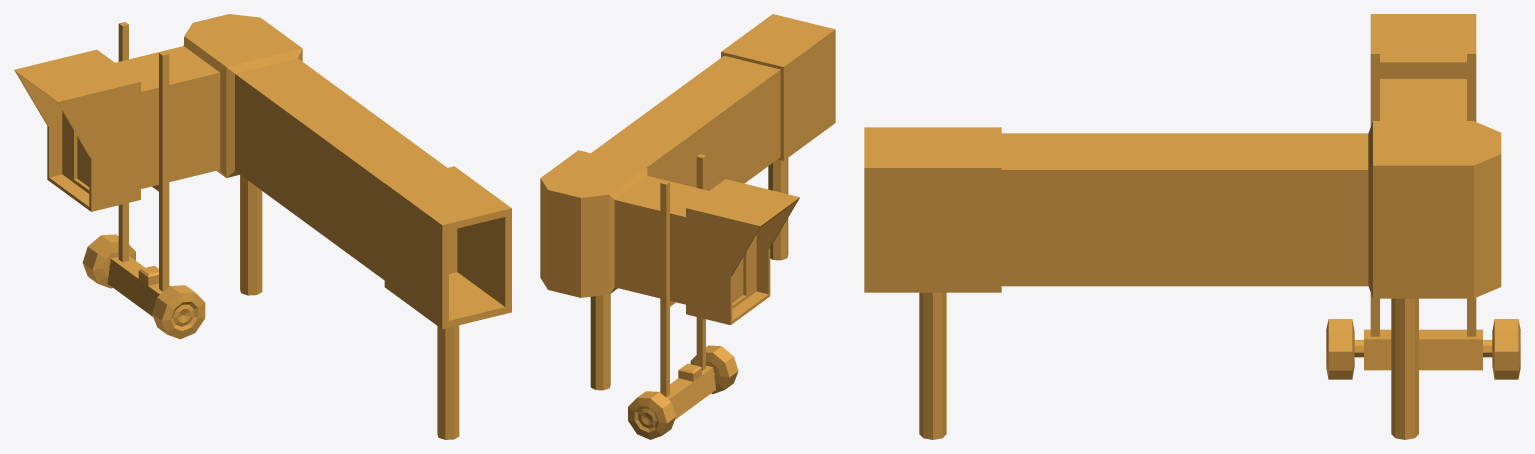
Rendered from airport-jet-bridge.glb.
The picture shows the model from 3 angles, left to right: view 1: azimuth 30°, elevation 25°; view 2: azimuth 150°, elevation 25°; view 3: azimuth 270°, elevation 25°; orthographic projection. The views are drawn at different scales.
Parts seen in each view (by area): view 1: airport-jet-bridge; view 2: airport-jet-bridge; view 3: airport-jet-bridge.
Boxes of the visible parts, x1,y1,x2,y2 form: airport-jet-bridge: [14, 14, 511, 439]; airport-jet-bridge: [540, 14, 835, 439]; airport-jet-bridge: [864, 14, 1520, 439].
Bounding box in the file's own units: 7.4 × 7.8 × 14.32.
